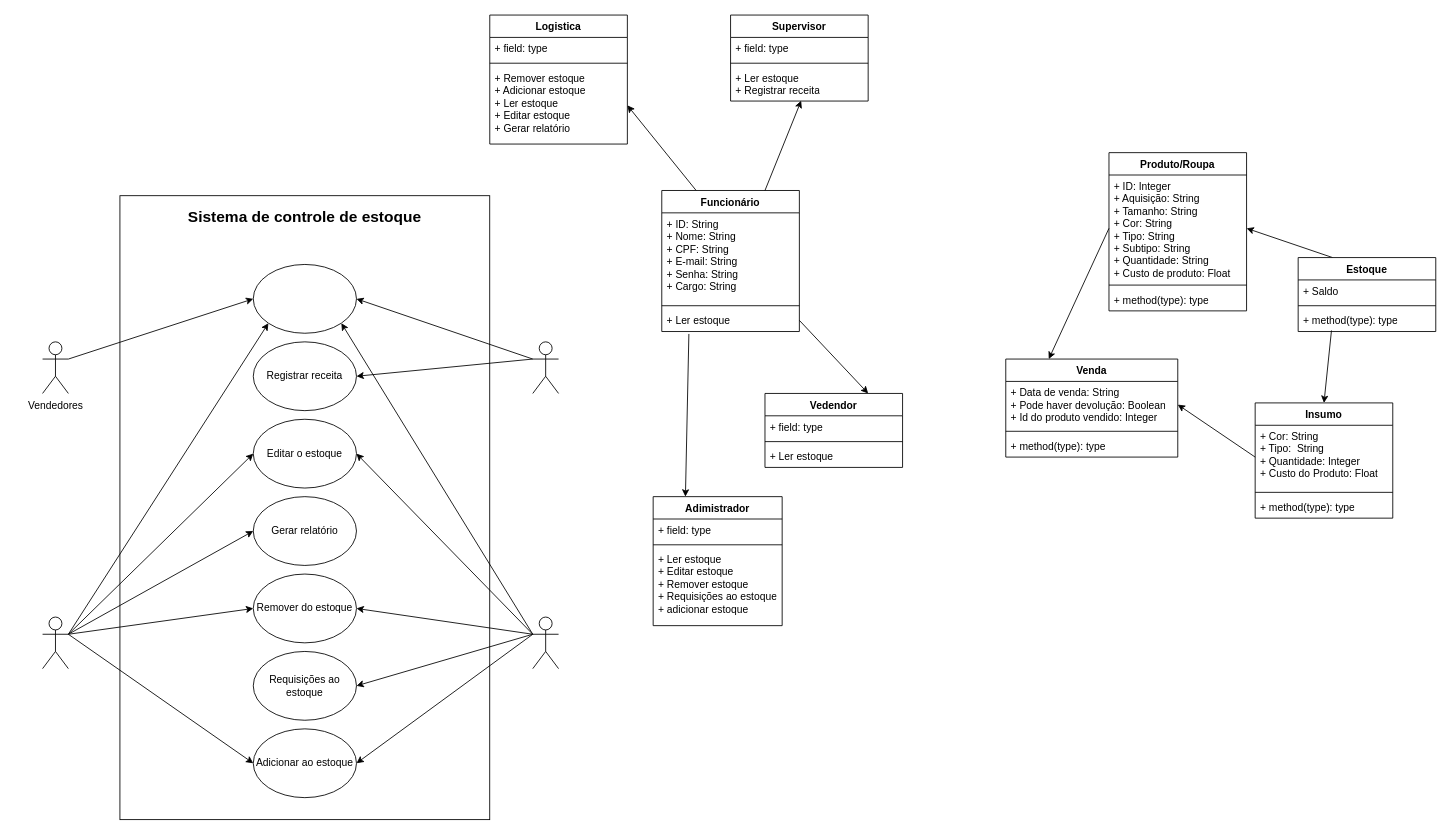
Image size: 1451x835. Some labels were removed from this diagram. Each missing label, with the centre of its shape:
Administrador: [545,642]
Estoque/Logística: [55,642]
Ler o estoque: [304,298]
Supervisor de vendas: [545,367]
